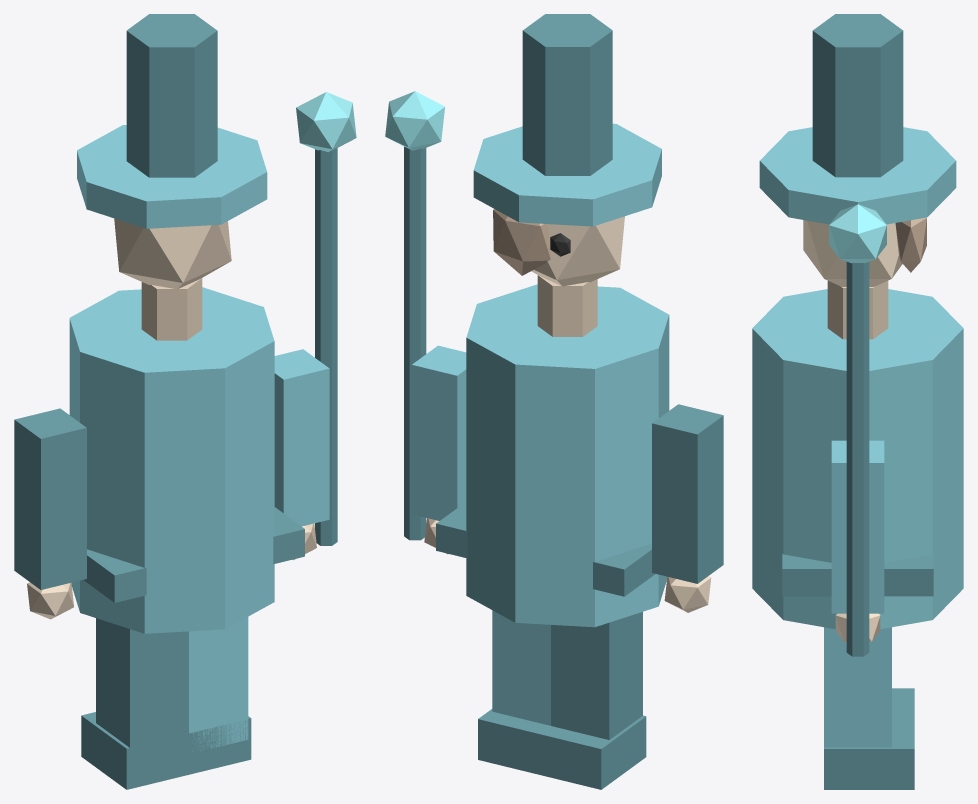
File: icemage.glb
3 renders of one model, left to right at view 1: azimuth 30°, elevation 25°; view 2: azimuth 150°, elevation 25°; view 3: azimuth 270°, elevation 25°, orthographic.
Visible parts, largest first — view 1: icemage; view 2: icemage; view 3: icemage.
Part boxes in pixels (bbox=[...]): icemage: bbox=[14, 14, 356, 789]; icemage: bbox=[385, 14, 723, 789]; icemage: bbox=[752, 14, 963, 789].
Bounding box in the file's own units: 0.9905 × 2.13 × 0.56.
